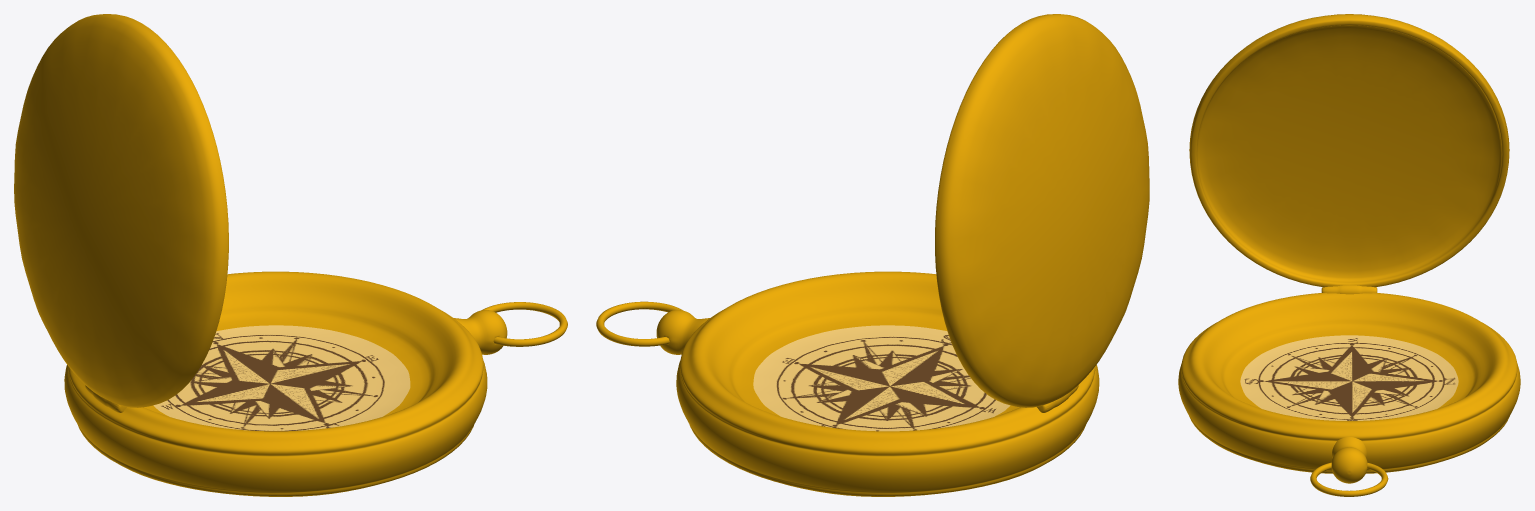
File: compassWithOutNeedle.fbx
3 renders of one model, left to right at view 1: azimuth 30°, elevation 25°; view 2: azimuth 150°, elevation 25°; view 3: azimuth 270°, elevation 25°, orthographic. The views are drawn at different scales.
Parts seen in each view (by area): view 1: revolvedSurface3; view 2: revolvedSurface3; view 3: revolvedSurface3.
Boxes of the visible parts, x1=… form: revolvedSurface3: x1=14, y1=14, x2=567, y2=496; revolvedSurface3: x1=596, y1=14, x2=1149, y2=496; revolvedSurface3: x1=1178, y1=14, x2=1520, y2=496.
Bounding box in the file's own units: 0.0275 × 0.0232 × 0.0211.
